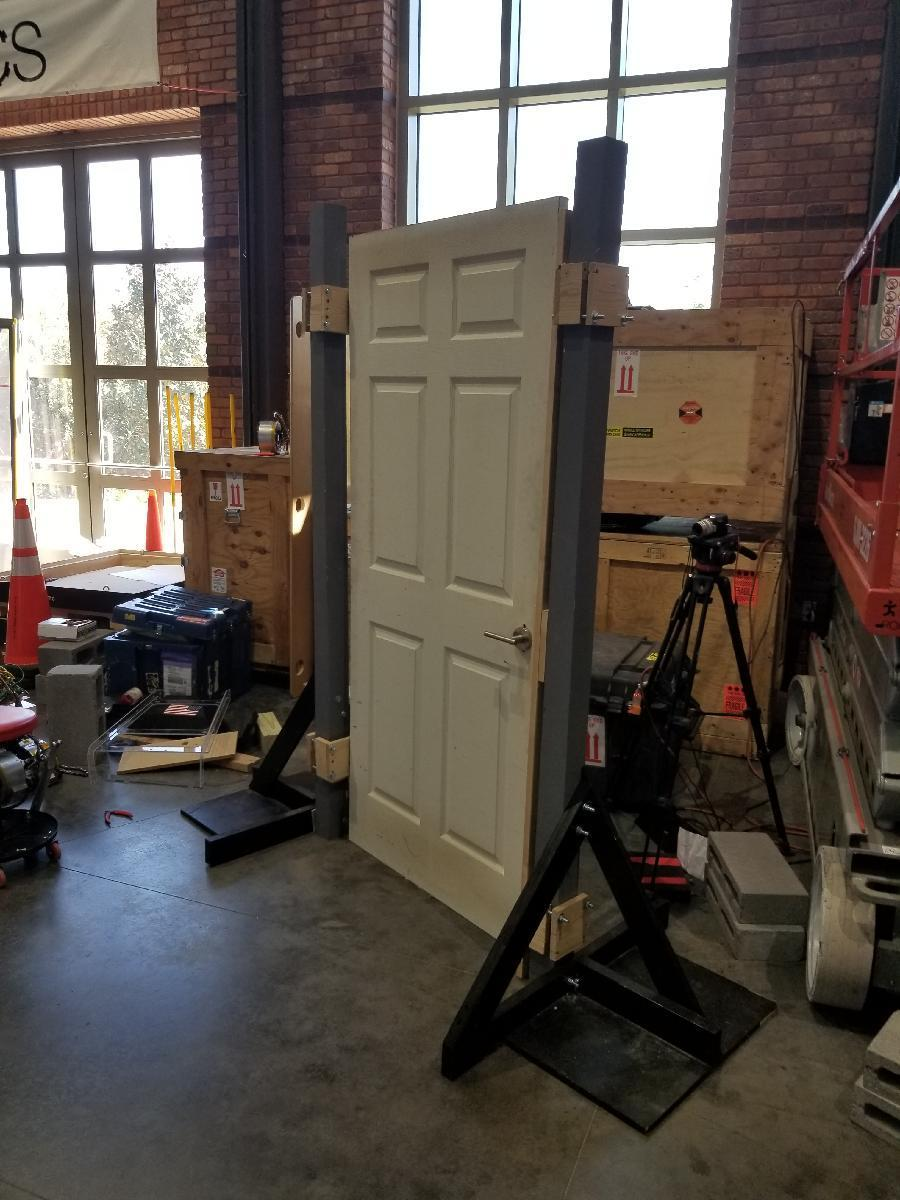door: (344, 230, 554, 930)
handle: (482, 622, 534, 656)
